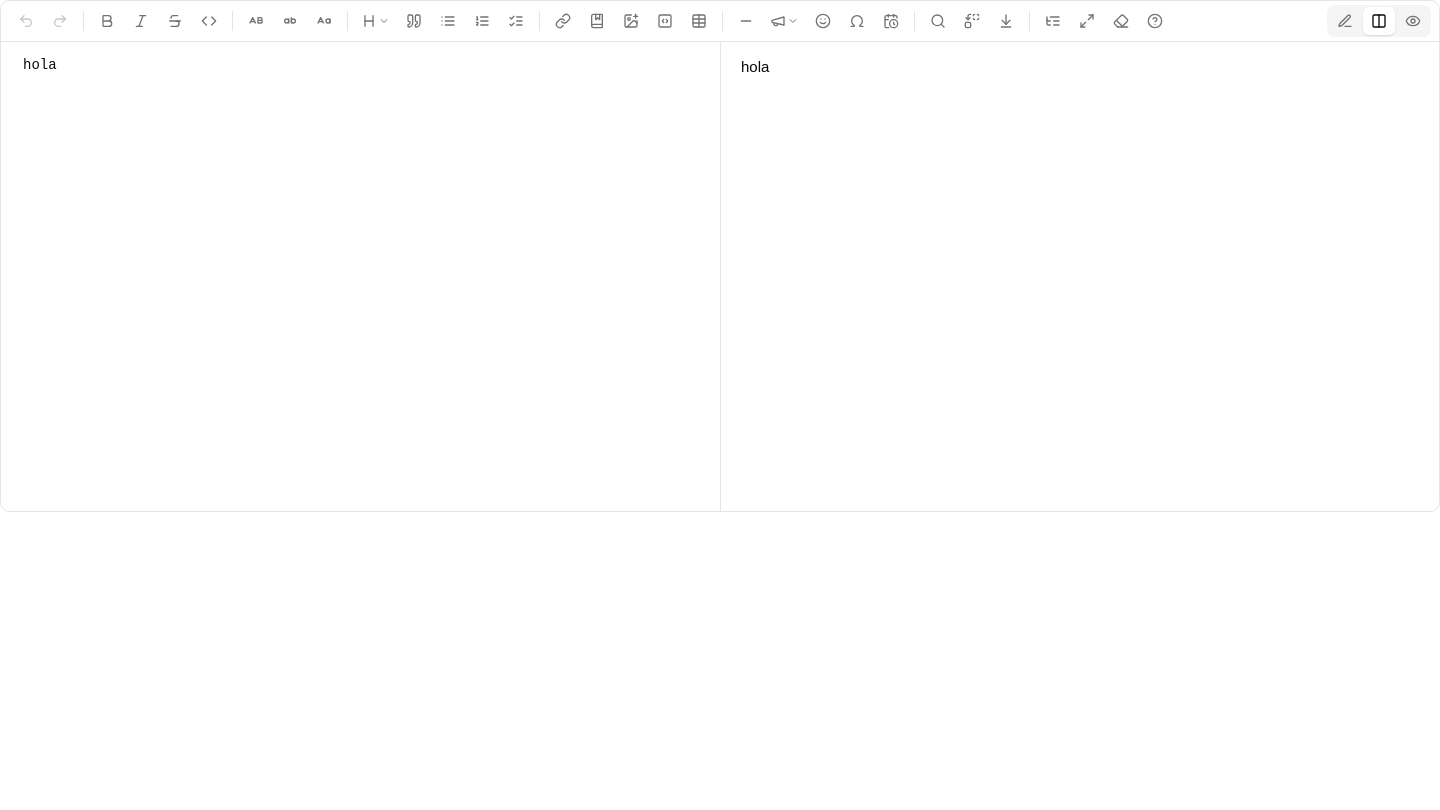
Test case: closes without inserting on cancel
This screenshot has width=1440, height=810.
Click the button named "Enlace" at point(563, 21), box [547,5,579,37]
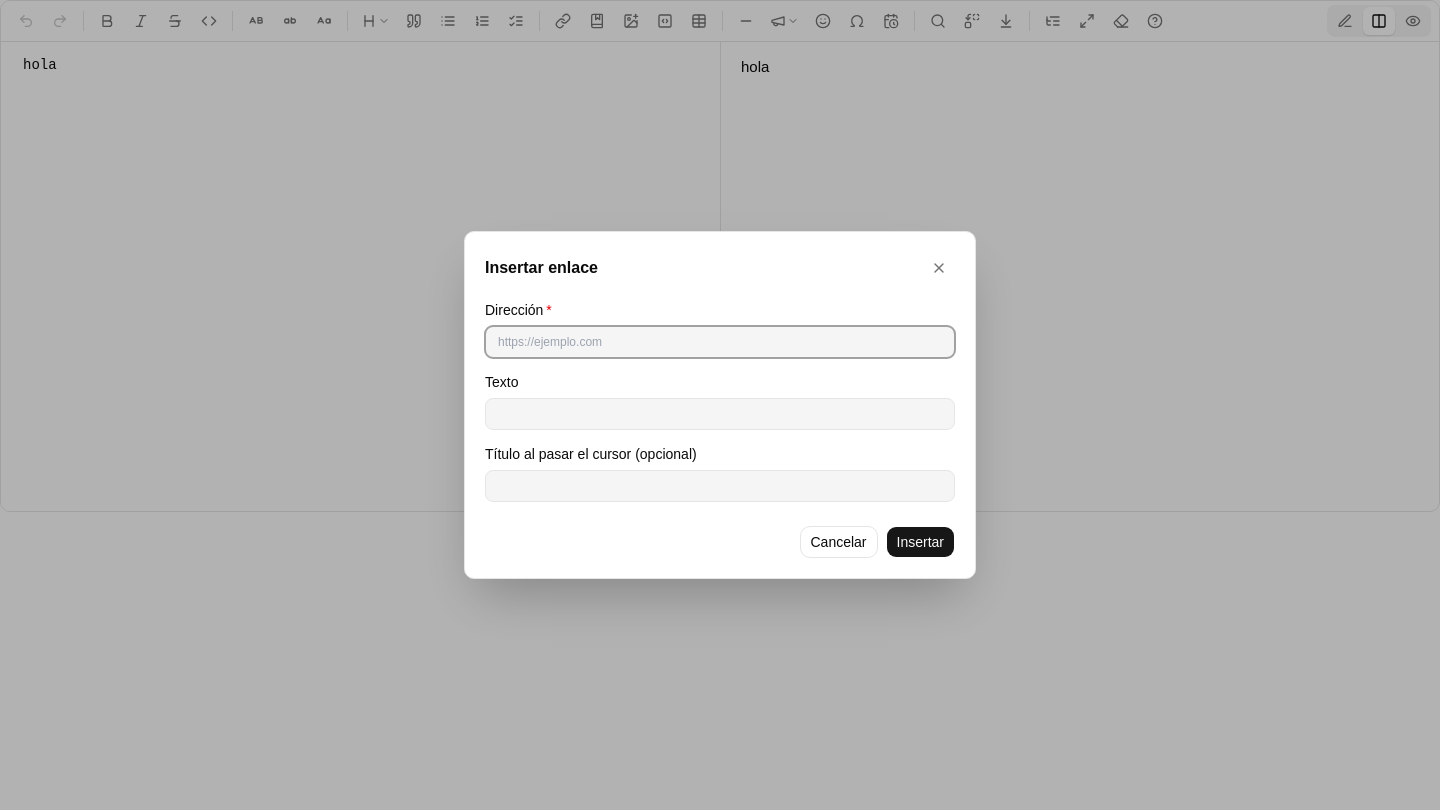
Click the button "Cancelar" at point(838, 542), box [800,526,878,558]
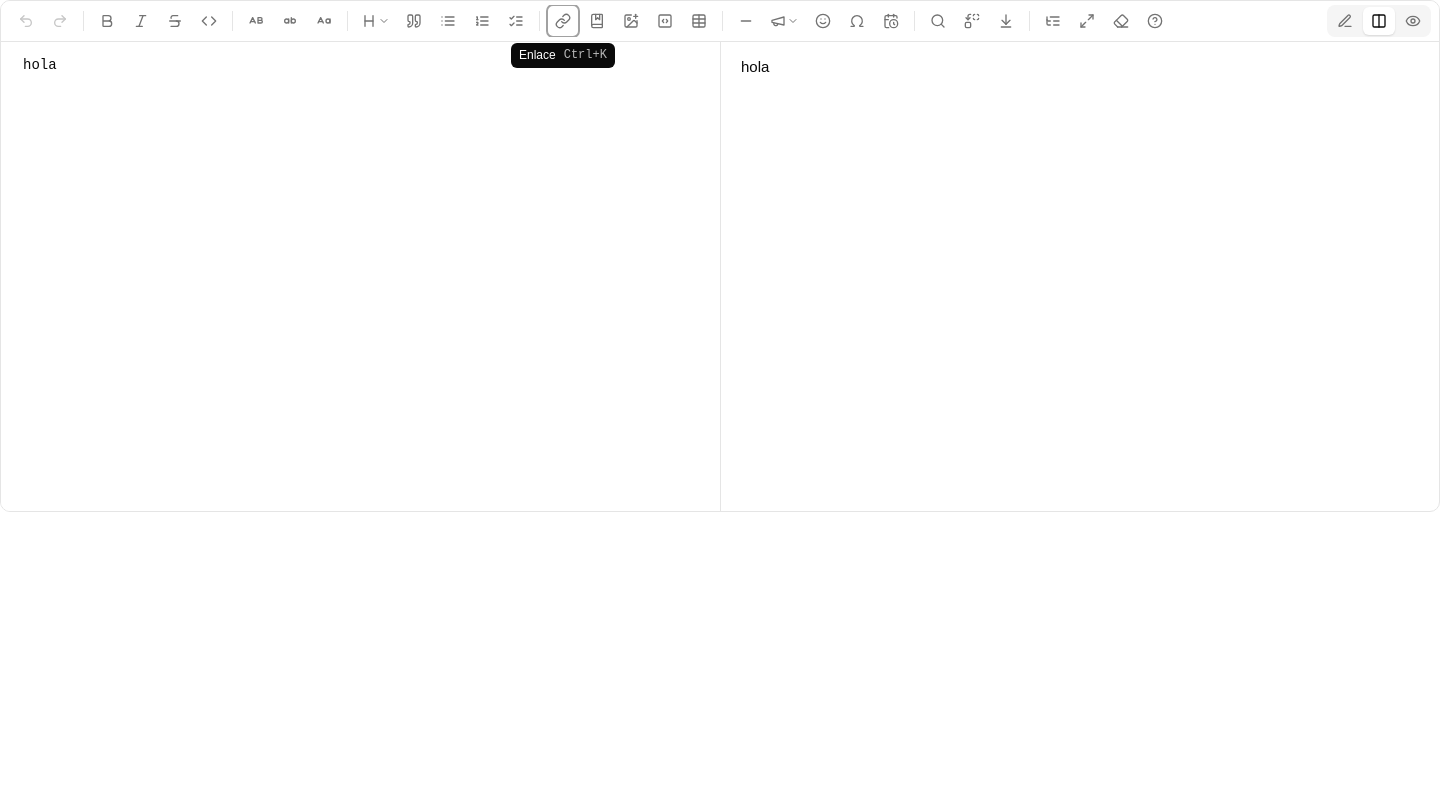
Expected: the dialog is gone
